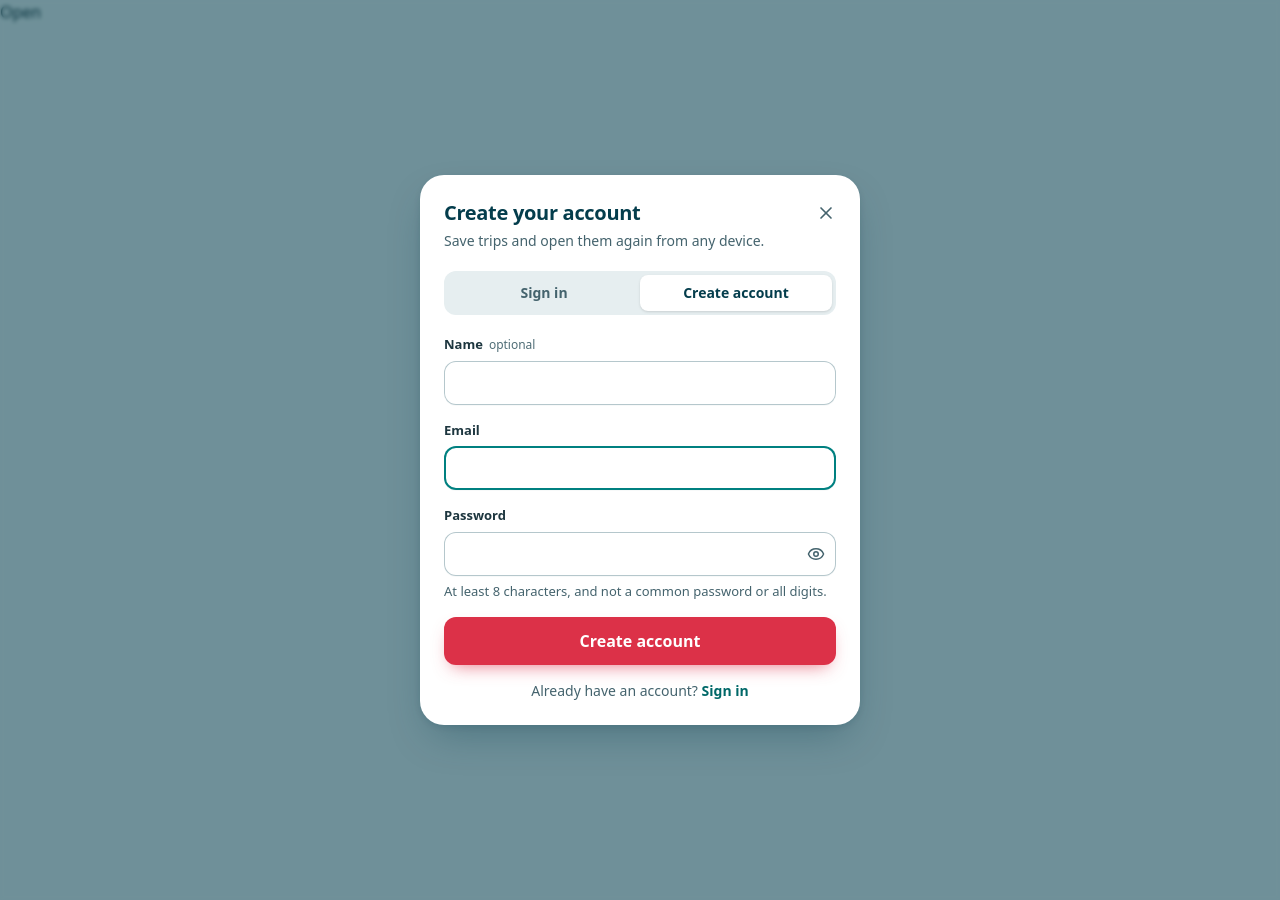
Test: AuthDialog › creating an account › puts API field errors under their fields and focuses the first
The width and height of the screenshot is (1280, 900).
Type "dana@example.com" into the field with test id "input-auth-email" at (640, 468), box [444, 446, 836, 490]
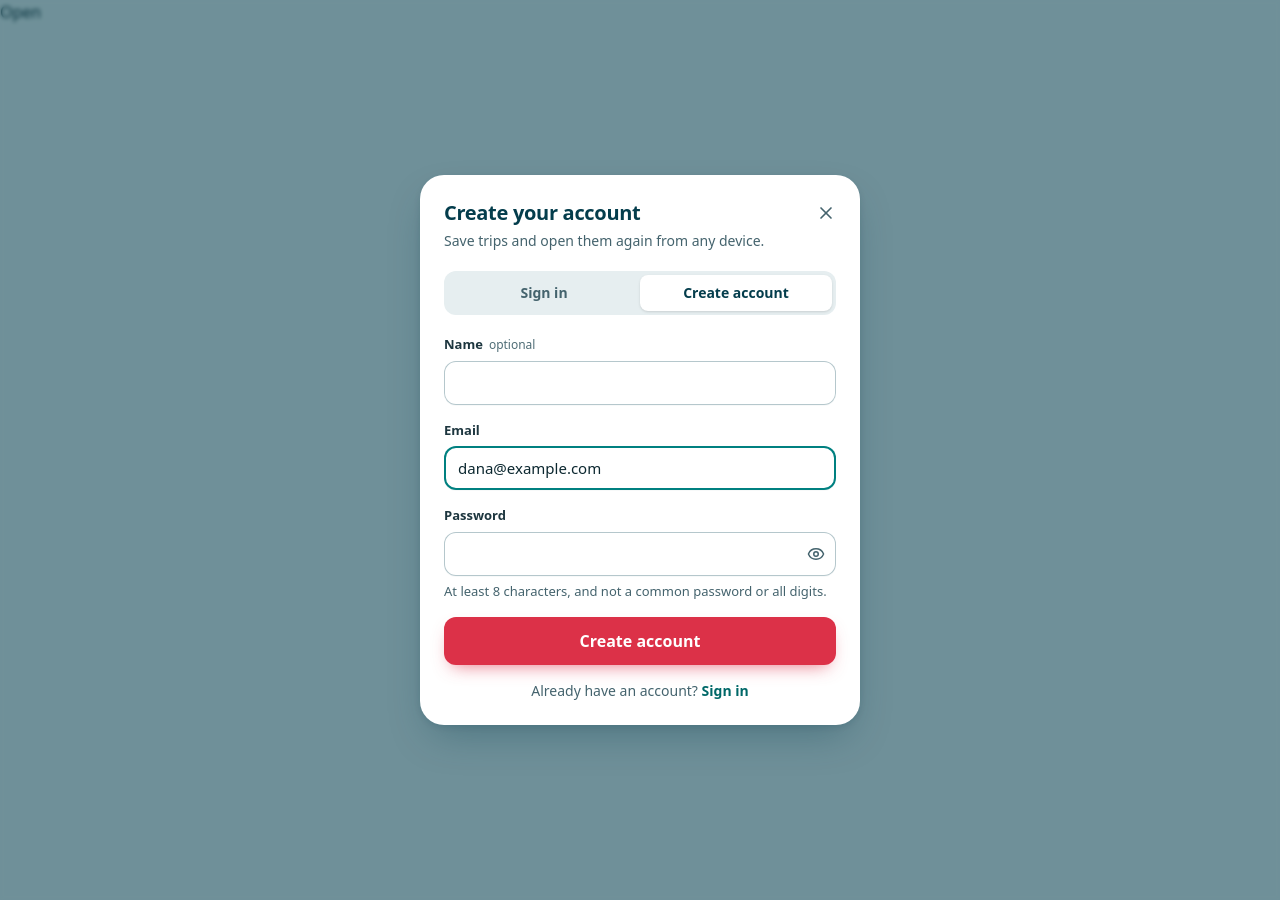
Type "12345678" into the password field with test id "input-auth-password" at (640, 554), box [444, 532, 836, 576]
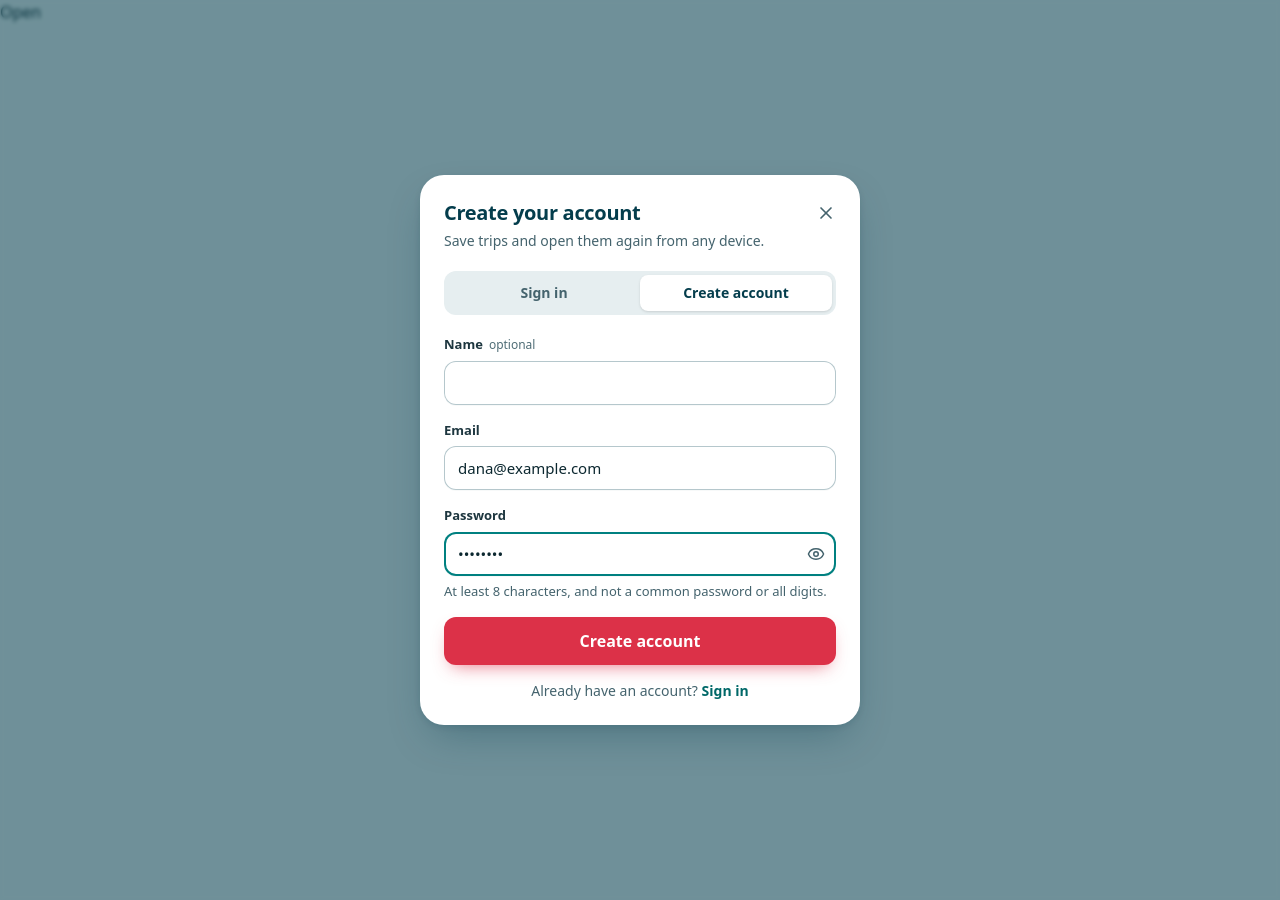
Click the button with test id "btn-auth-submit" at (640, 641), box [444, 617, 836, 665]
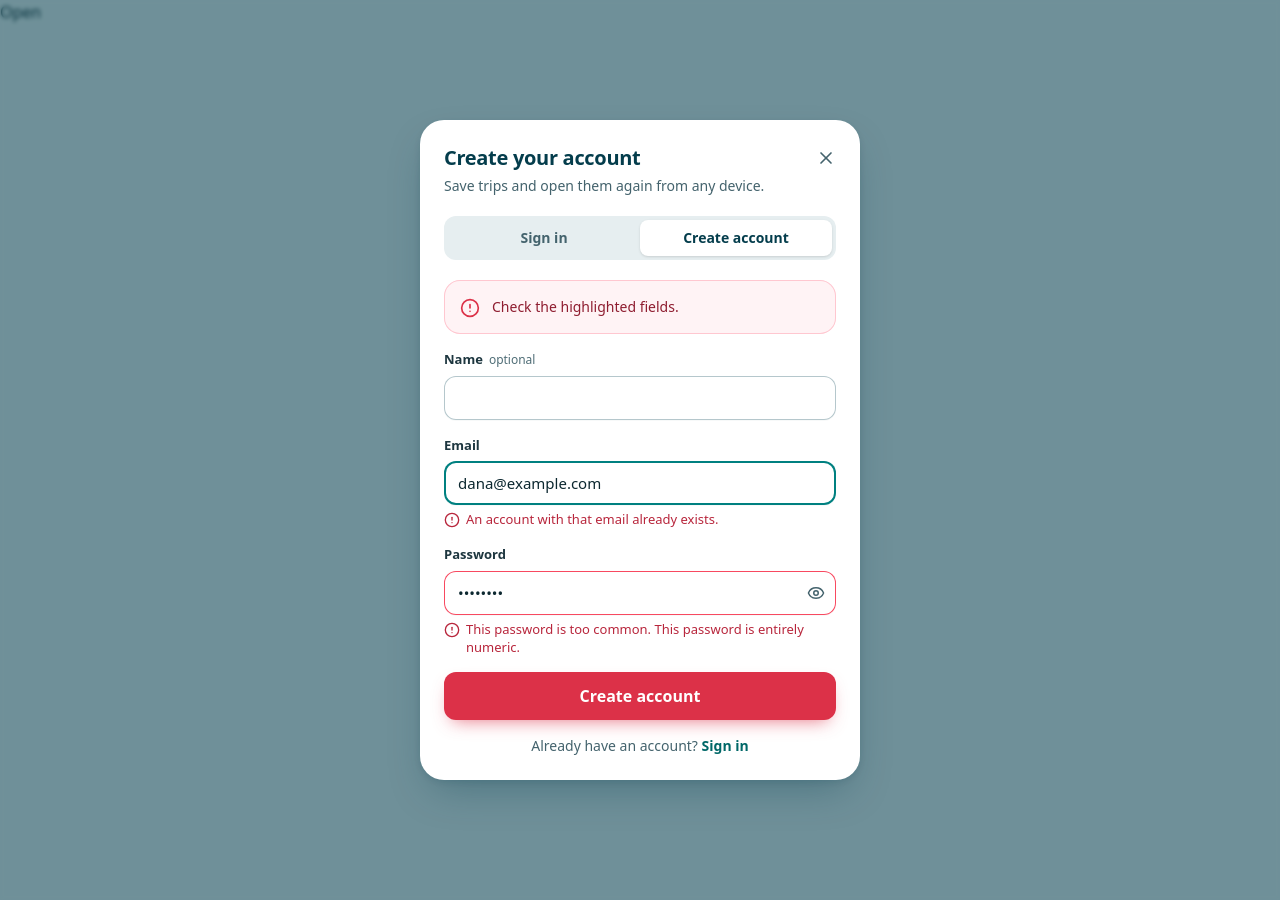
Expected: the text "An account with that email already exists." is shown, [466, 511, 718, 529]
Expected: the text "This password is too common. This password is entirely numeric." is shown, [466, 621, 836, 656]
Expected: the message with test id "auth-error" reads "Check the highlighted fields.", [492, 297, 679, 316]
